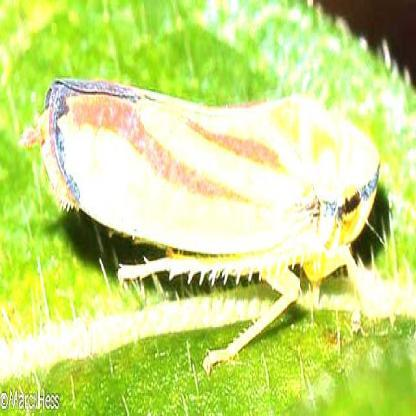green-leafhopper: (46, 80, 377, 310)
